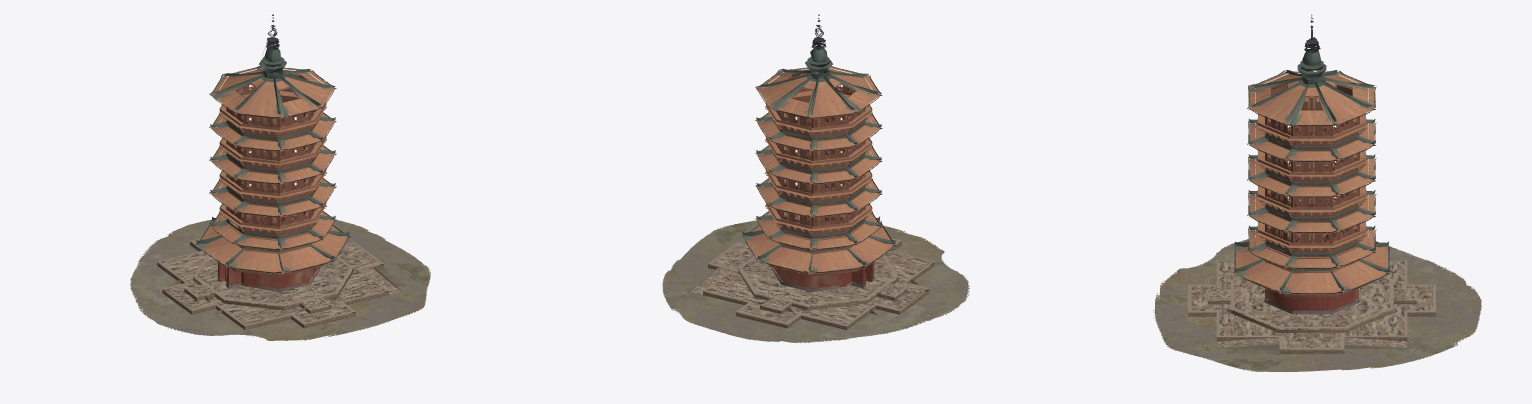
File: bpagoda.glb
3 views of the same model, side by side, from view 1: azimuth 30°, elevation 25°; view 2: azimuth 150°, elevation 25°; view 3: azimuth 270°, elevation 25° (orthographic). The views are drawn at different scales.
Visible parts, largest first — view 1: Pagoda1_Ground_0; view 2: Pagoda1_Ground_0; view 3: Pagoda1_Ground_0.
Boxes of the visible parts, left/top/right/bottom form: Pagoda1_Ground_0: left=130, top=14, right=430, bottom=340; Pagoda1_Ground_0: left=662, top=14, right=969, bottom=342; Pagoda1_Ground_0: left=1153, top=14, right=1481, bottom=372.
Size of the model in its own units: 101 by 78.27 by 101.
5 materials, 5 textured.
